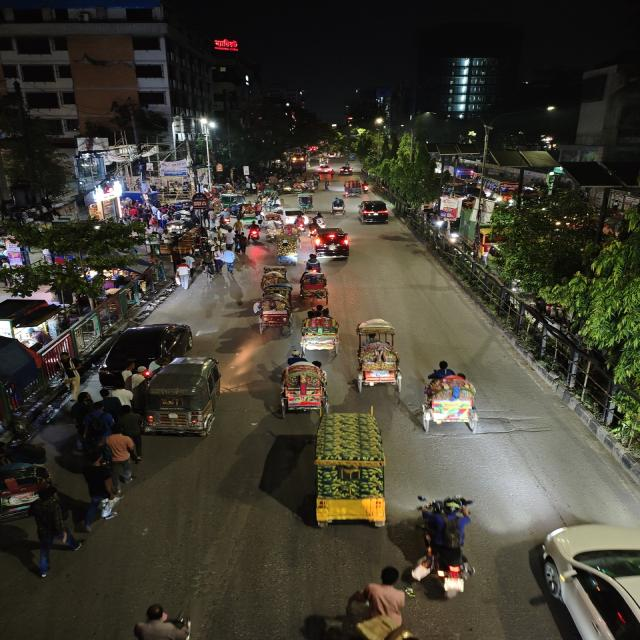car: (520, 518, 640, 640), (312, 226, 354, 258), (357, 198, 392, 225), (339, 164, 354, 176)
cng: (141, 356, 227, 439), (98, 321, 194, 380), (264, 182, 281, 192)
motorcycle: (411, 491, 483, 601), (245, 220, 263, 246), (302, 252, 323, 274)
pedestrian: (96, 427, 141, 484), (171, 258, 195, 290), (217, 244, 240, 276), (324, 177, 329, 190)
pickup_van: (341, 178, 363, 196)
rickshaw: (305, 406, 394, 536), (411, 356, 496, 436), (349, 316, 412, 396), (0, 452, 58, 528), (274, 353, 332, 418), (250, 285, 295, 339), (297, 306, 342, 356), (298, 270, 331, 301), (276, 237, 301, 267), (295, 193, 316, 211), (329, 197, 347, 215)
